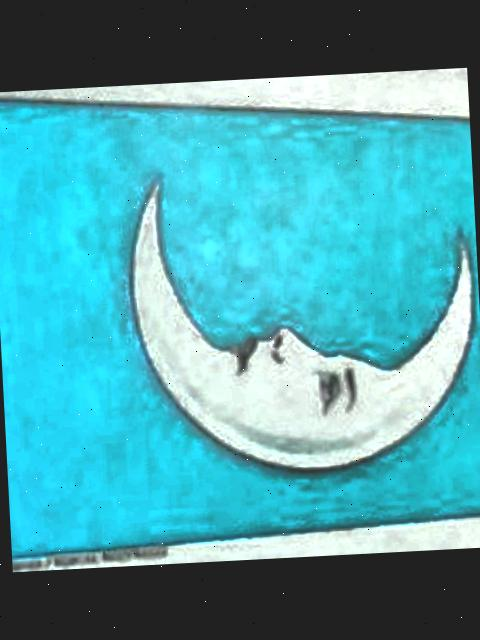La Luna: (0, 101, 480, 558)
